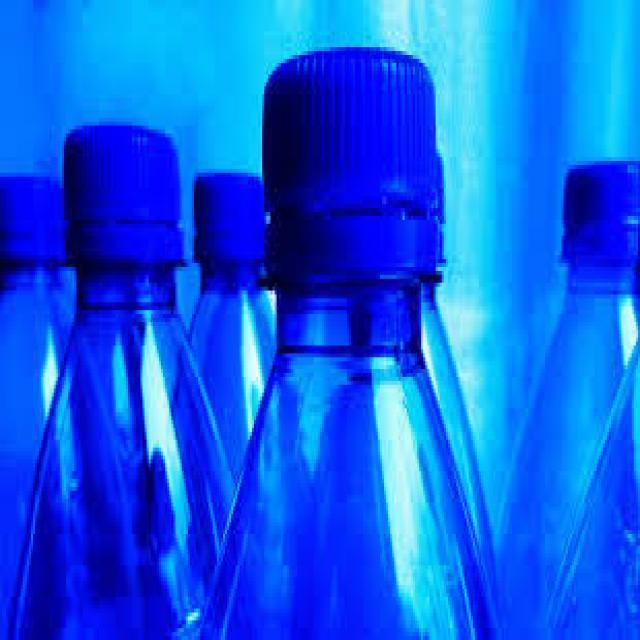Plastic: (199, 46, 502, 640), (13, 118, 235, 640), (496, 156, 640, 640)
